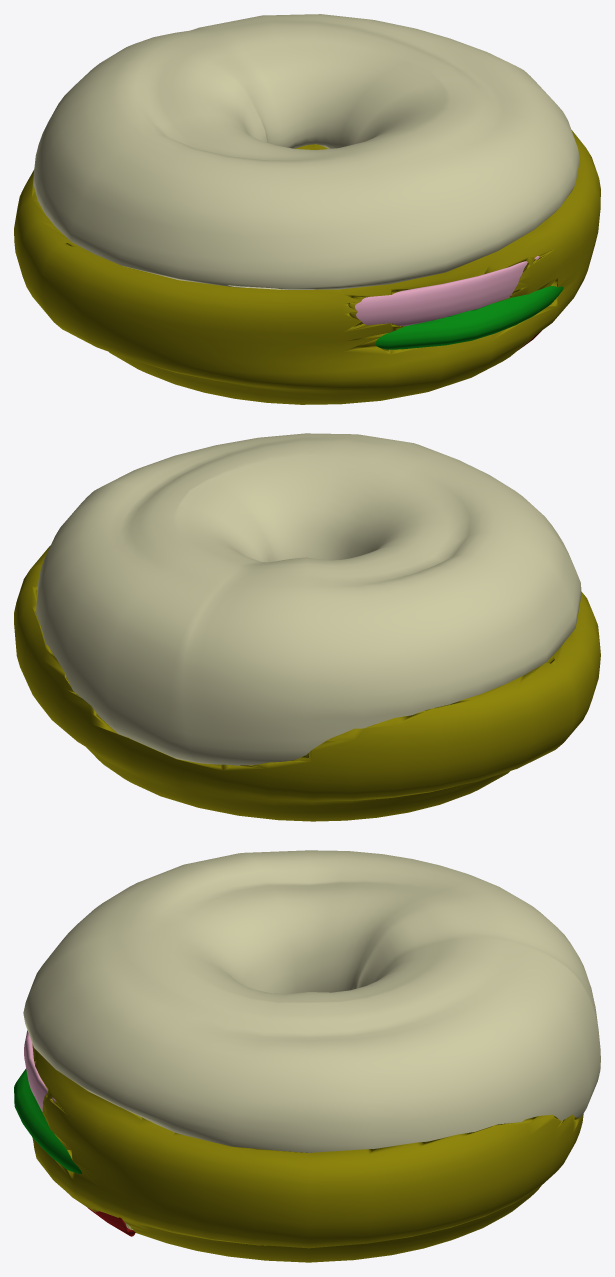
The model's file is rotating-head.glb.
The picture shows the model from 3 angles, top to bottom: view 1: azimuth 30°, elevation 25°; view 2: azimuth 150°, elevation 25°; view 3: azimuth 270°, elevation 25°; orthographic projection. The views are drawn at different scales.
Visible parts, largest first — view 1: Boolean Meshes.007, Boolean Meshes.001, Boolean Meshes.004, Boolean Meshes.005; view 2: Boolean Meshes.007, Boolean Meshes.001; view 3: Boolean Meshes.007, Boolean Meshes.001, Boolean Meshes.005, Boolean Meshes.004.
Part boxes in pixels (left/top/right/bottom): Boolean Meshes.007: left=33, top=14, right=579, bottom=289; Boolean Meshes.001: left=14, top=130, right=600, bottom=404; Boolean Meshes.004: left=355, top=256, right=539, bottom=326; Boolean Meshes.005: left=375, top=286, right=563, bottom=349; Boolean Meshes.007: left=36, top=433, right=581, bottom=765; Boolean Meshes.001: left=14, top=545, right=600, bottom=821; Boolean Meshes.007: left=23, top=850, right=600, bottom=1152; Boolean Meshes.001: left=32, top=1044, right=583, bottom=1262; Boolean Meshes.005: left=14, top=1069, right=81, bottom=1173; Boolean Meshes.004: left=24, top=1030, right=55, bottom=1111.
Bounding box in the file's own units: 3.26 × 1.39 × 2.93.
